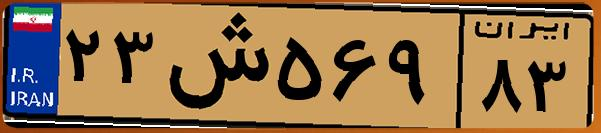2: (57, 26, 110, 100)
3: (525, 38, 570, 115), (110, 28, 158, 98)
5: (270, 28, 330, 110)
6: (330, 28, 385, 110)
8: (475, 38, 525, 113)
9: (385, 28, 445, 110)
ش: (158, 12, 270, 120)
